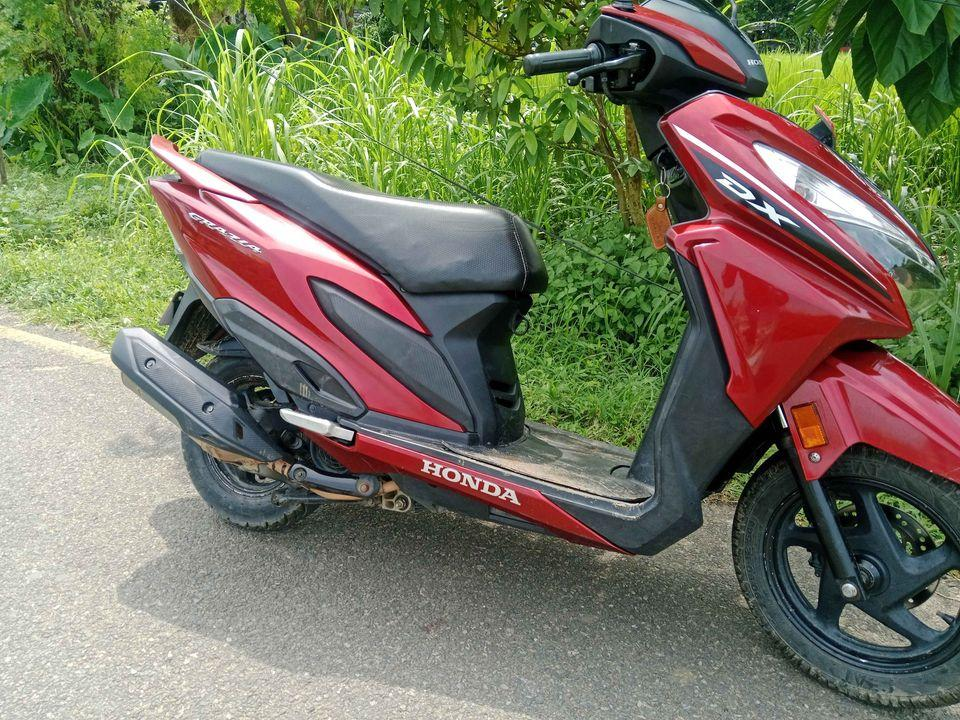scooter: (107, 0, 960, 714)
